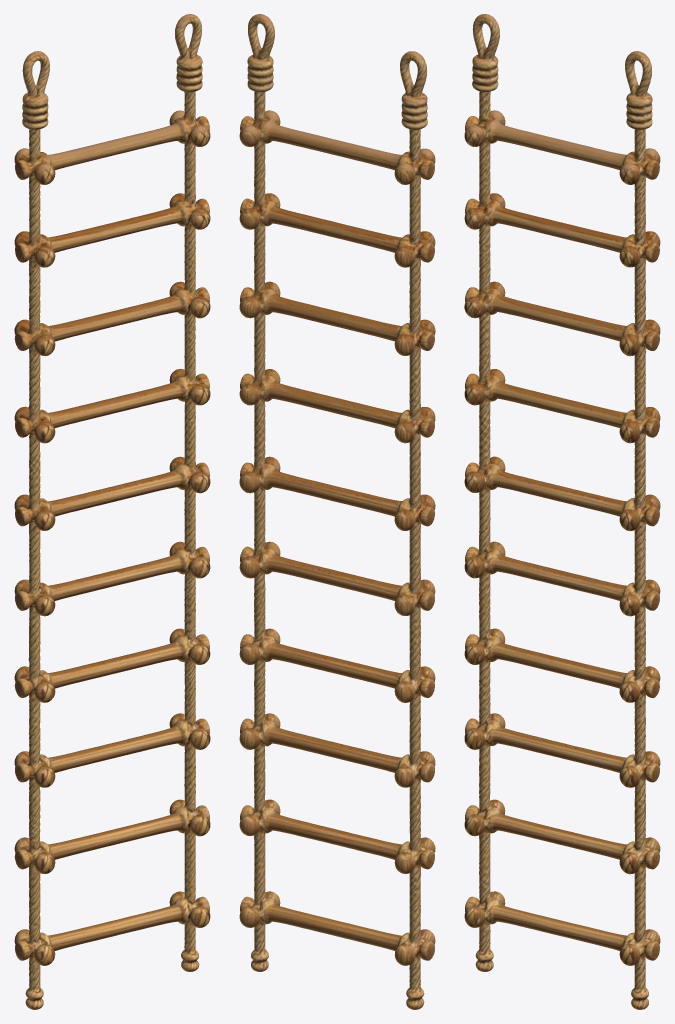
Rendered from Chemin.glb.
3 views of the same model, side by side, from view 1: azimuth 30°, elevation 25°; view 2: azimuth 150°, elevation 25°; view 3: azimuth 330°, elevation 25° (orthographic).
Bounding box in the file's own units: 0.389 × 1.9 × 0.1042.
Materials: 1 (1 with a texture image).
